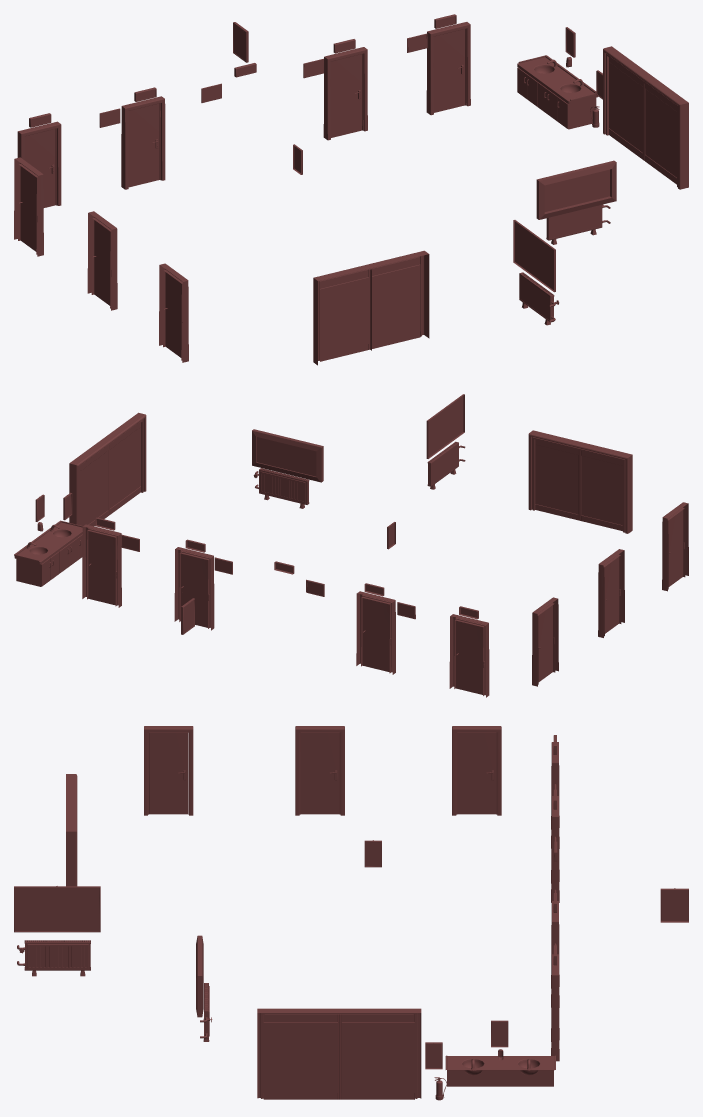
File: Doors_and_Panels_Atlas_03.fbx
The picture shows the model from 3 angles, top to bottom: view 1: azimuth 30°, elevation 25°; view 2: azimuth 150°, elevation 25°; view 3: azimuth 270°, elevation 25°; orthographic projection. The views are drawn at different scales.
Parts seen in each view (by area): view 1: Doors_and_Panels_Atlas_03, Glass; view 2: Doors_and_Panels_Atlas_03, Glass; view 3: Doors_and_Panels_Atlas_03.
Boxes of the visible parts, x1,y1,x2,y2 form: Doors_and_Panels_Atlas_03: (14, 14, 688, 365); Glass: (544, 169, 609, 211); Doors_and_Panels_Atlas_03: (14, 394, 688, 697); Glass: (256, 437, 316, 476); Doors_and_Panels_Atlas_03: (14, 726, 688, 1100).
Size of the model in its own units: 1757 by 278 by 1725.
